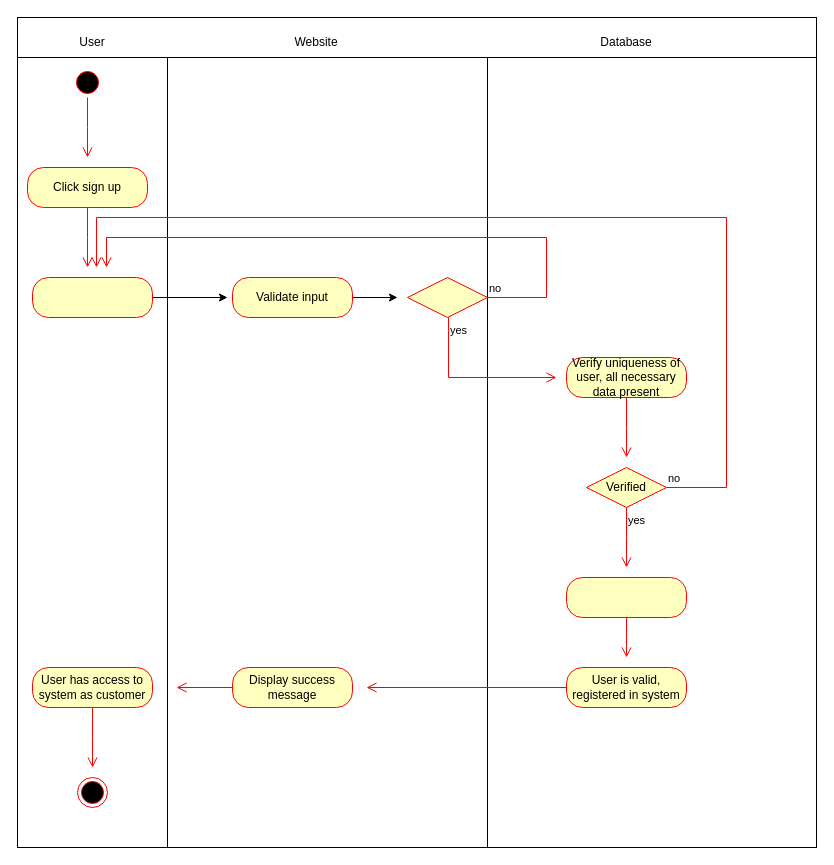
The diagram is 834 pixels wide and 865 high, and some of its shapes have lost their labels. Each missing label, with the centre of its shape:
Enter email, password, username: [92,297]
User added to database: [626,597]
Valid input: [447,297]
